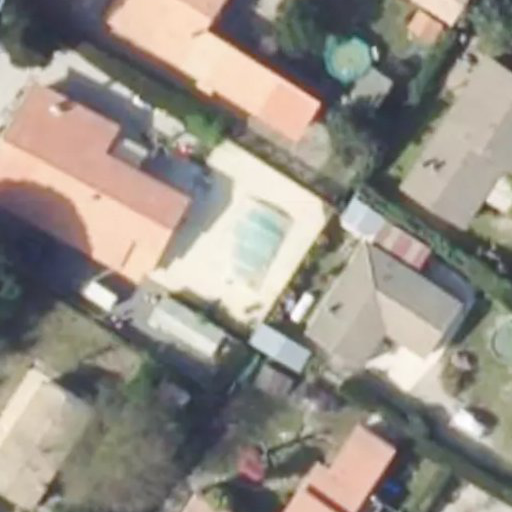pool: (229, 194, 293, 295), (329, 34, 375, 83)
